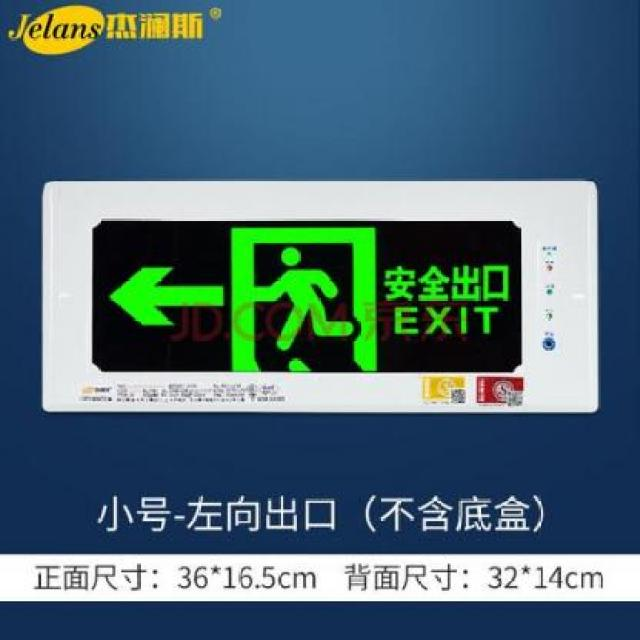exit_sign: (28, 165, 600, 436)
